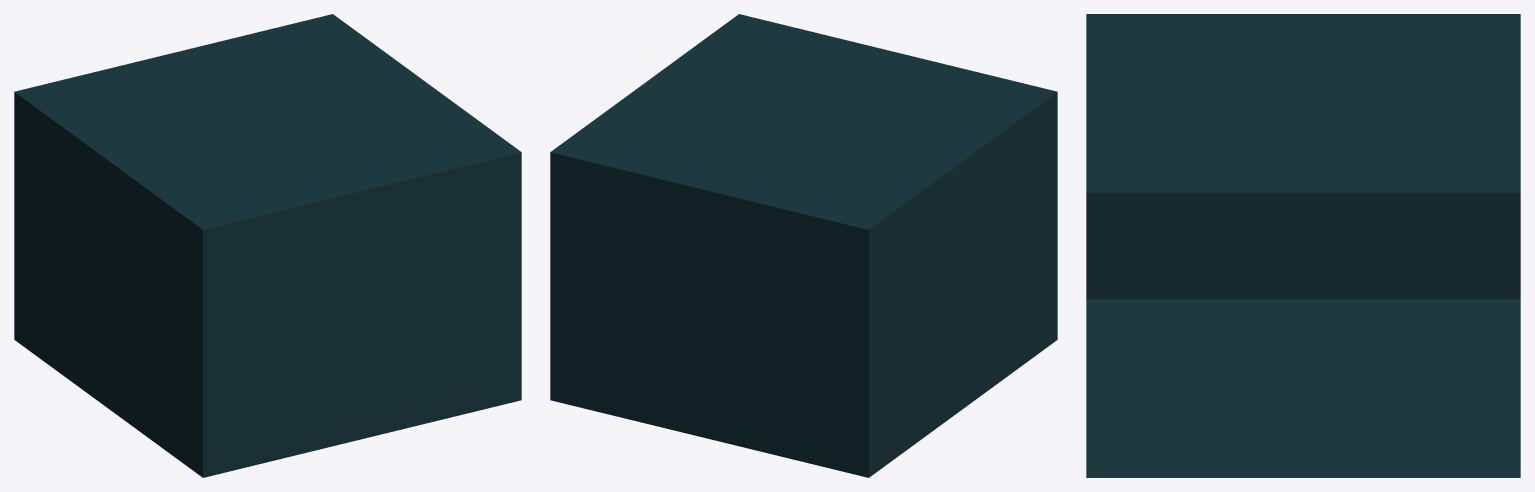
File: Conference_forAR_Hider.glb
3 views of the same model, side by side, from view 1: azimuth 30°, elevation 25°; view 2: azimuth 150°, elevation 25°; view 3: azimuth 270°, elevation 25° (orthographic). The views are drawn at different scales.
Visible parts, largest first — view 1: Plane.001; view 2: Plane.001; view 3: Plane.001.
Part boxes in pixels (x1,y1,x2,y2): Plane.001: (14, 14, 521, 477); Plane.001: (550, 14, 1057, 477); Plane.001: (1086, 14, 1520, 477).
Size of the model in its own units: 24.75 by 18.4 by 25.41.
